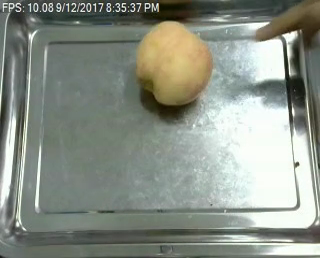Peach: (137, 20, 212, 106)
